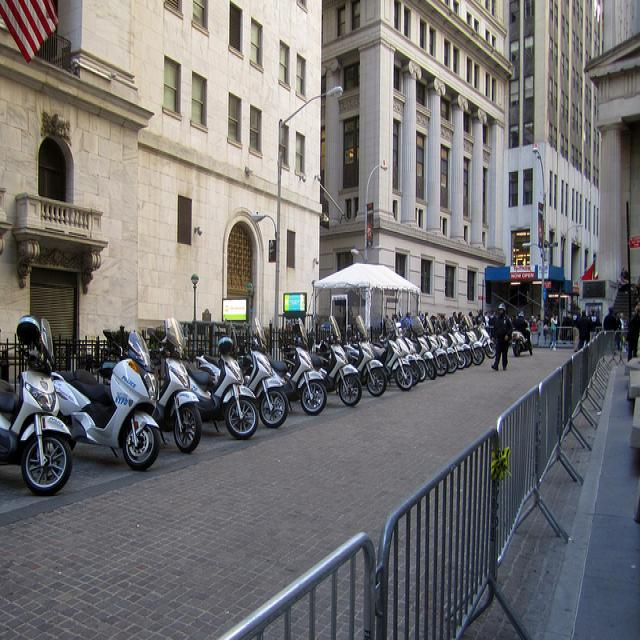motor: (219, 311, 528, 387), (52, 329, 161, 464), (0, 314, 78, 499), (195, 317, 289, 428), (149, 317, 204, 454), (284, 313, 364, 406), (188, 349, 257, 443), (274, 316, 325, 416), (354, 315, 388, 400), (368, 337, 414, 390), (424, 316, 449, 375), (411, 330, 436, 381), (404, 337, 426, 382), (445, 333, 466, 369)
